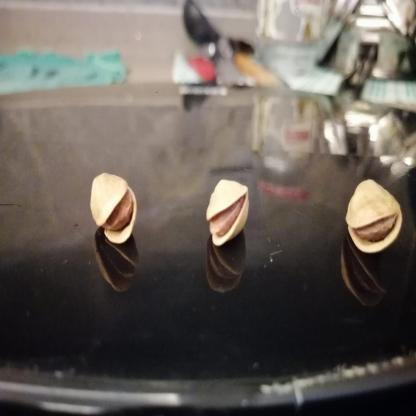pistachio: (344, 175, 406, 259), (197, 175, 260, 257), (83, 167, 145, 246)
